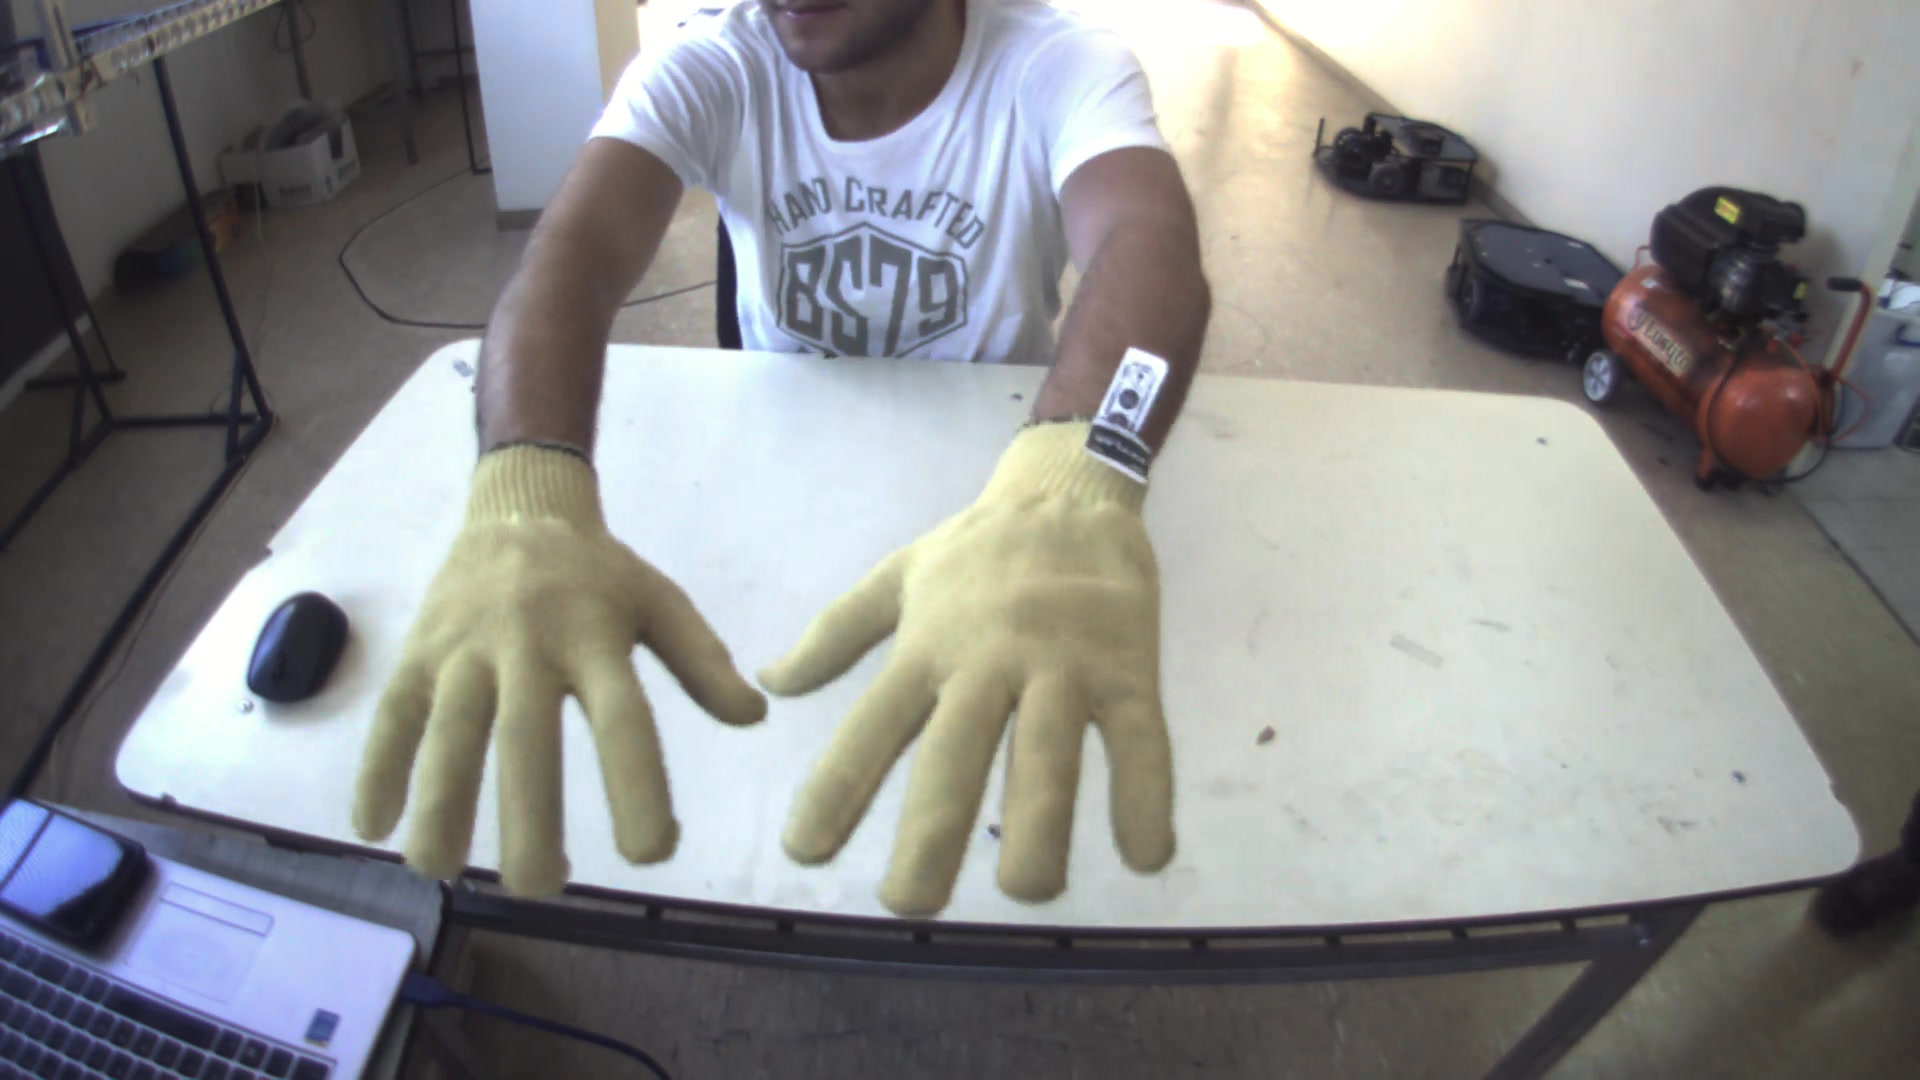hand: (740, 398, 1195, 928), (318, 422, 748, 911)
